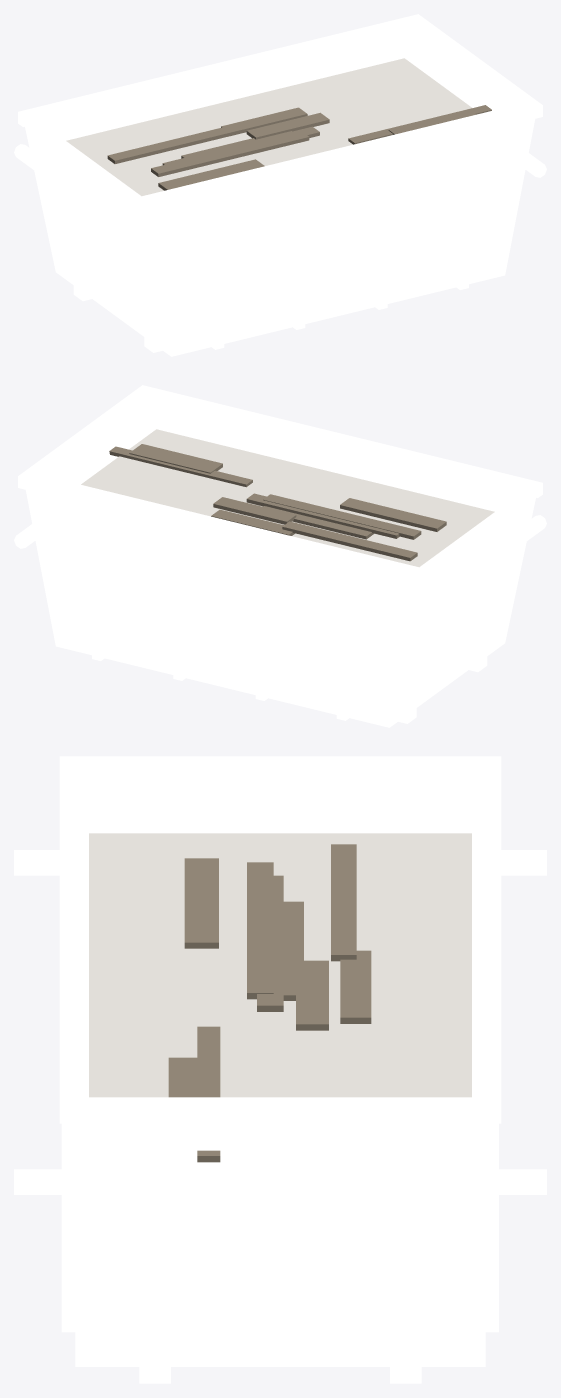
The model's file is skip_yellow.glb.
The picture shows the model from 3 angles, top to bottom: view 1: azimuth 30°, elevation 25°; view 2: azimuth 150°, elevation 25°; view 3: azimuth 270°, elevation 25°; orthographic projection. The views are drawn at different scales.
Visible parts, largest first — view 1: skip_yellow_LOD0; view 2: skip_yellow_LOD0; view 3: skip_yellow_LOD0.
Boxes of the visible parts, x1,y1,x2,y2 form: skip_yellow_LOD0: (14,14,546,356); skip_yellow_LOD0: (14,385,546,727); skip_yellow_LOD0: (14,756,546,1383).
Size of what is drawn, in the model's own units: 3.6 by 1.5 by 2.34.
